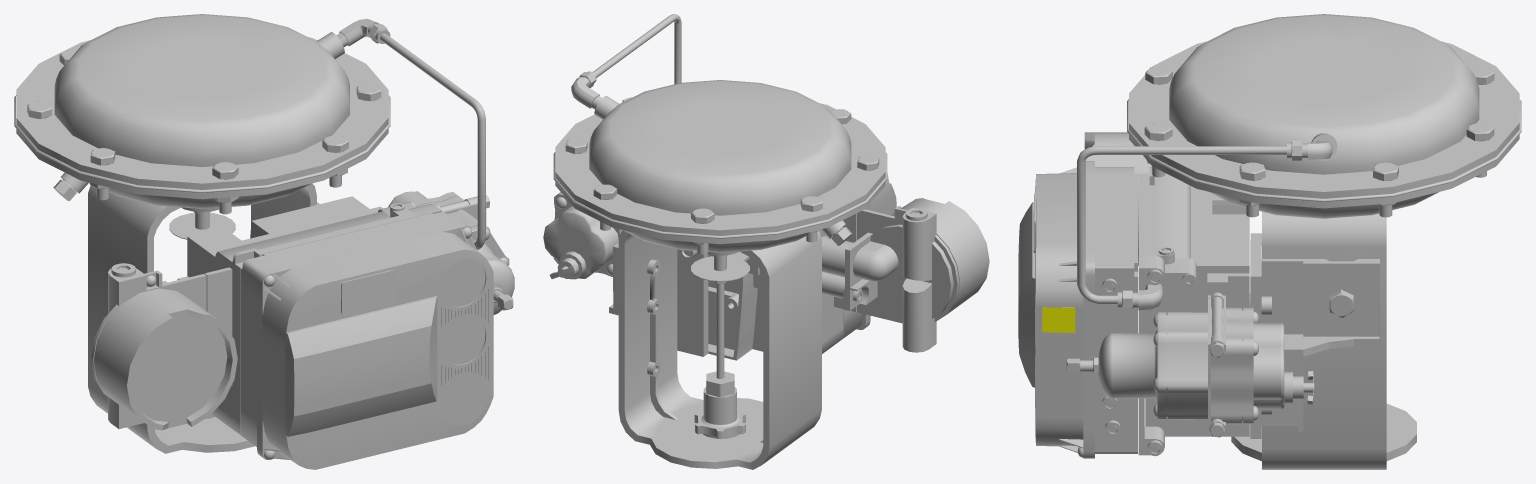
Rendered from ectcmodel(old).glb.
3 renders of one model, left to right at view 1: azimuth 30°, elevation 25°; view 2: azimuth 150°, elevation 25°; view 3: azimuth 270°, elevation 25°, orthographic. The views are drawn at different scales.
Visible parts, largest first — view 1: part01_low_poly, part013_low_poly, part023_low_poly, part011_low_poly, part016_low_poly, glass, part040_low_poly, part02_low_poly, part014_low_poly, part018_low_poly, screw3_low_poly, part067_low_poly (+10 smaller); view 2: part01_low_poly, part011_low_poly, part023_low_poly, part02_low_poly, part039_low_poly, part04_low_poly, part024_low_poly, part040_low_poly, part025_low_poly, screw3_low_poly, part028_low_poly, part067_low_poly (+15 smaller); view 3: part01_low_poly, part011_low_poly, part013_low_poly, part039_low_poly, part03_low_poly, part016_low_poly, part040_low_poly, part021_low_poly, part02_low_poly, part034_low_poly, screw3_low_poly, part067_low_poly (+12 smaller).
Boxes of the visible parts, <box> form: part01_low_poly: <box>16,14,388,189</box>; part013_low_poly: <box>262,232,493,469</box>; part023_low_poly: <box>91,288,237,430</box>; part011_low_poly: <box>88,183,316,453</box>; part016_low_poly: <box>240,212,457,446</box>; glass: <box>441,259,487,425</box>; part040_low_poly: <box>187,196,374,416</box>; part02_low_poly: <box>16,124,388,208</box>; part014_low_poly: <box>257,222,472,459</box>; part018_low_poly: <box>232,212,417,434</box>; screw3_low_poly: <box>27,37,489,208</box>; part067_low_poly: <box>380,33,485,249</box>; part01_low_poly: <box>555,80,885,235</box>; part011_low_poly: <box>618,230,821,469</box>; part023_low_poly: <box>870,198,989,321</box>; part02_low_poly: <box>555,178,885,252</box>; part039_low_poly: <box>609,243,708,356</box>; part04_low_poly: <box>543,206,618,278</box>; part024_low_poly: <box>857,207,936,280</box>; part040_low_poly: <box>708,230,821,360</box>; part025_low_poly: <box>857,278,936,352</box>; screw3_low_poly: <box>565,97,879,244</box>; part028_low_poly: <box>853,241,898,281</box>; part067_low_poly: <box>592,14,681,84</box>; part01_low_poly: <box>1129,14,1519,198</box>; part011_low_poly: <box>1231,211,1416,469</box>; part013_low_poly: <box>1018,173,1083,446</box>; part039_low_poly: <box>1250,240,1379,438</box>; part03_low_poly: <box>1098,299,1210,432</box>; part016_low_poly: <box>1095,167,1137,453</box>; part040_low_poly: <box>1191,186,1249,436</box>; part021_low_poly: <box>1145,173,1190,436</box>; part02_low_poly: <box>1129,130,1519,218</box>; part034_low_poly: <box>1211,307,1253,424</box>; screw3_low_poly: <box>1144,66,1494,437</box>; part067_low_poly: <box>1077,146,1286,304</box>.
Bounding box in the file's own units: 50.42 × 40.95 × 49.49.
4 materials, 1 textured.
